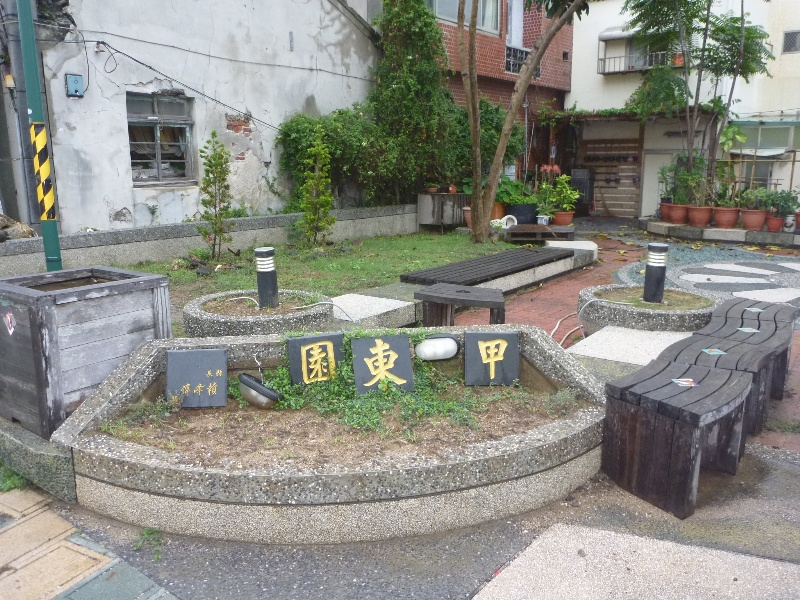box: (1, 263, 173, 444)
